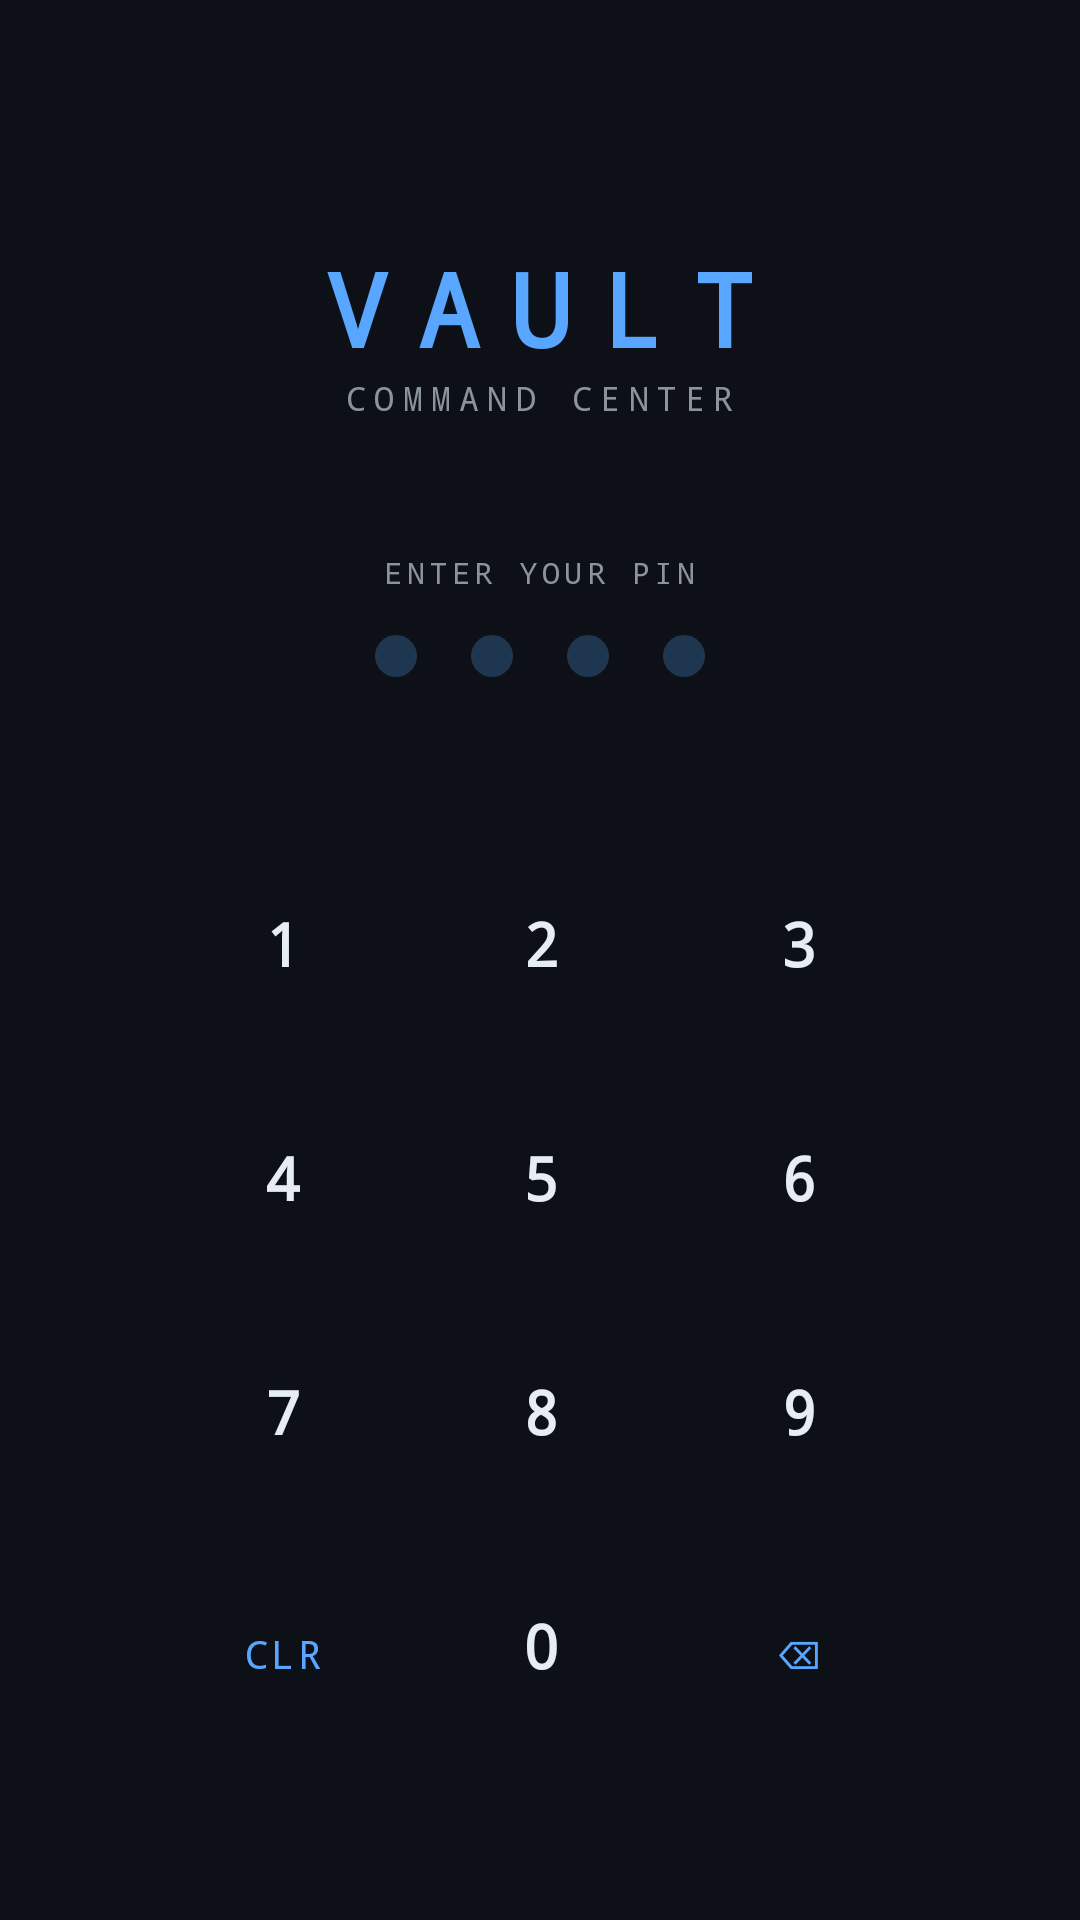

Where to tap for icons on this 1080*1920 app screen, as (x,y):
pin dot: (396,656), (492,656), (588,656), (684,656)
